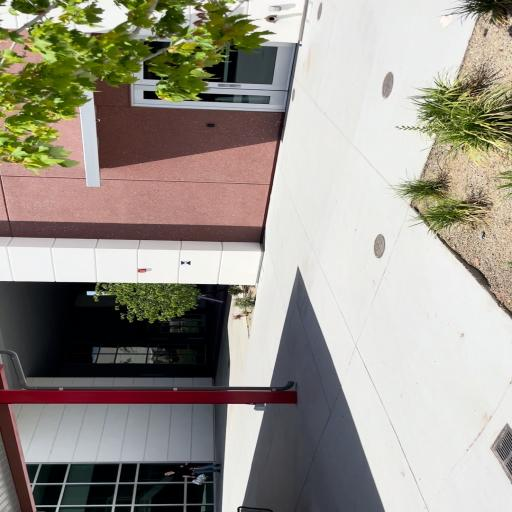target2: (181, 260, 191, 266)
